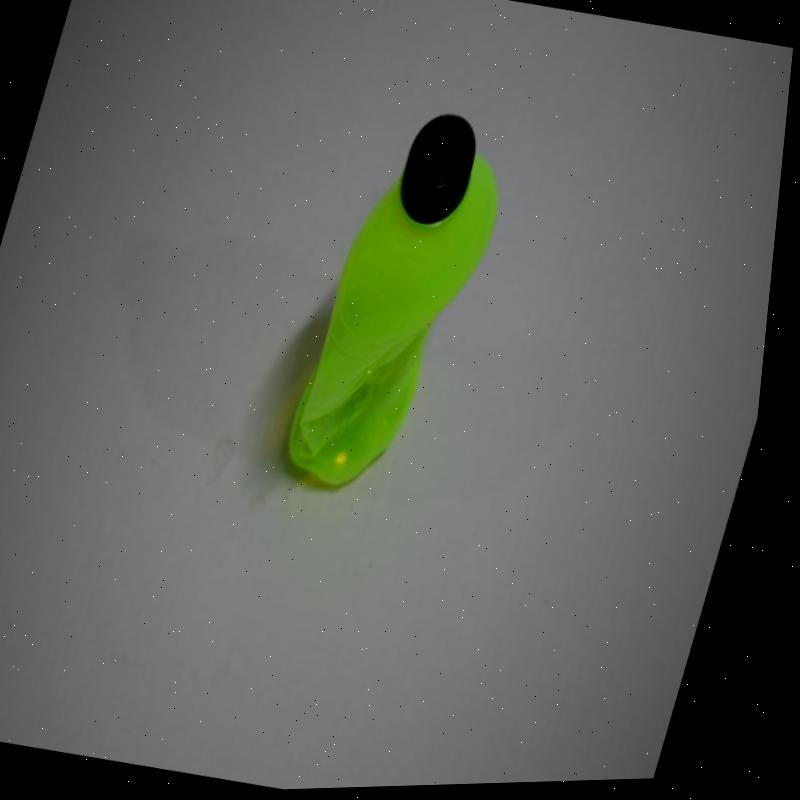botella: (280, 100, 531, 509)
